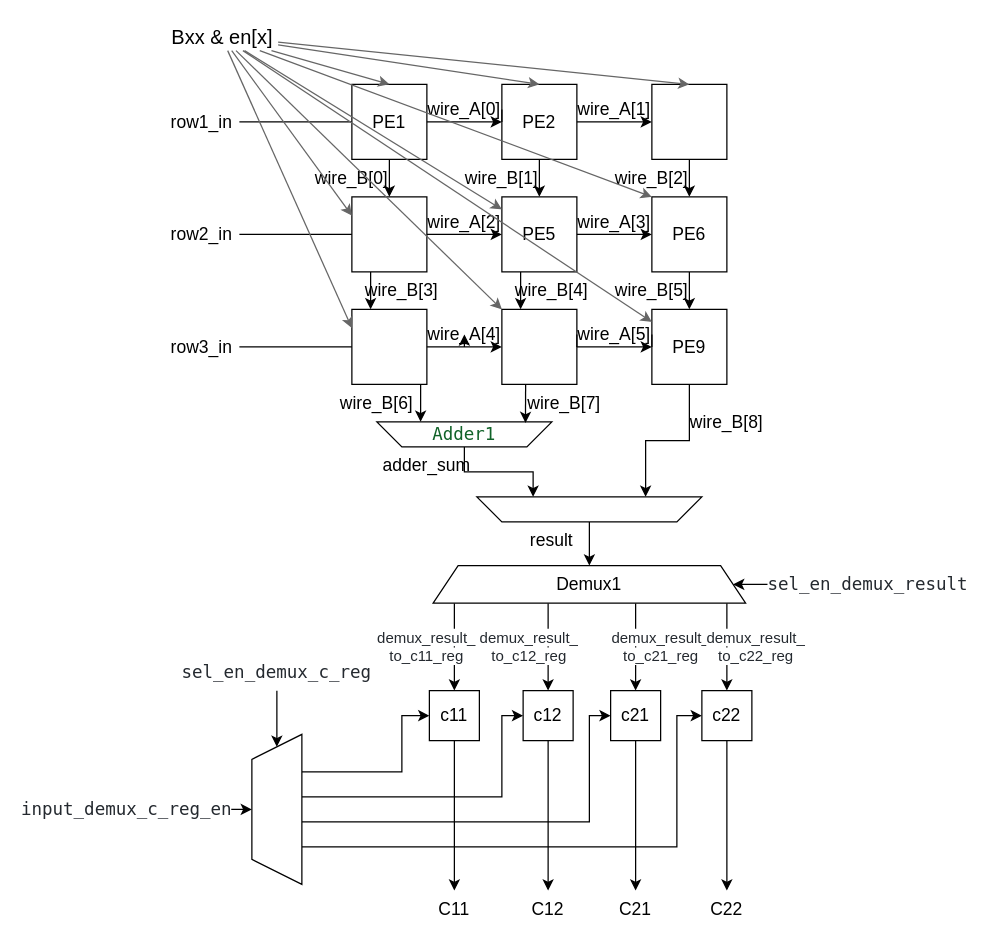
This 990x949 diagram has some shape labels left out. Each missing label, with the box of its shape:
Adder2: (476, 496, 702, 522)
Demux2: (251, 733, 302, 884)
PE3: (651, 83, 727, 159)
PE4: (351, 196, 427, 272)
PE7: (351, 308, 427, 384)
PE8: (501, 308, 577, 384)
